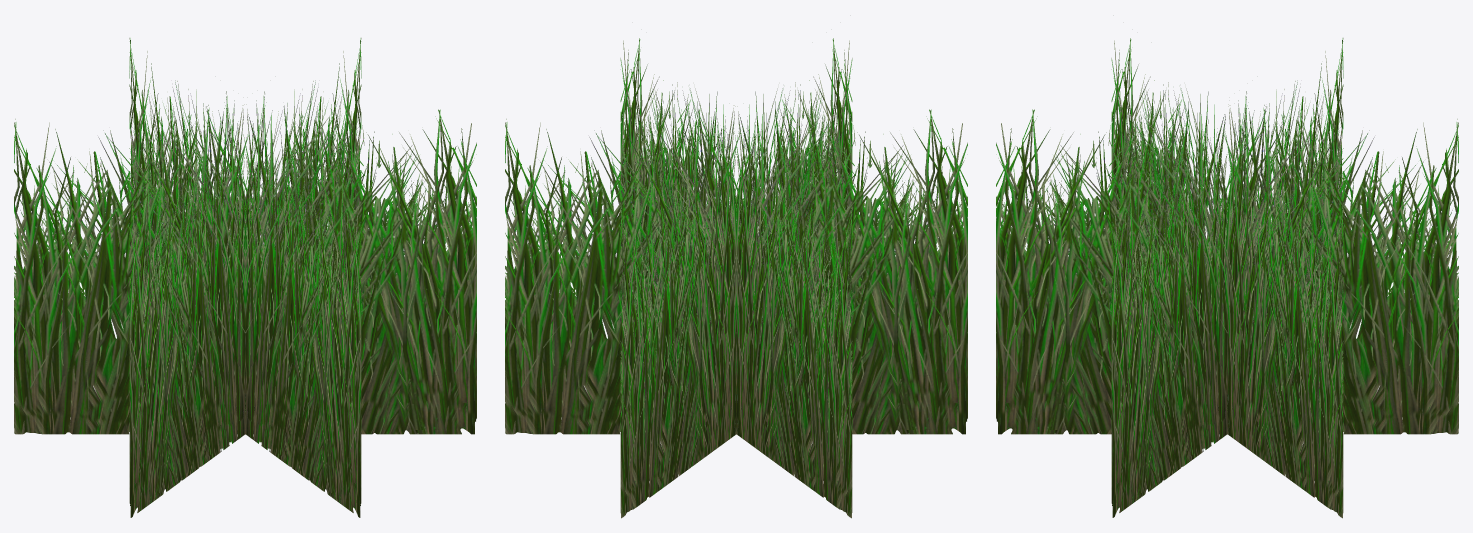
The model's file is grass.obj.
The picture shows the model from 3 angles, left to right: view 1: azimuth 30°, elevation 25°; view 2: azimuth 150°, elevation 25°; view 3: azimuth 270°, elevation 25°; orthographic projection.
Visible parts, largest first — view 1: pPlane3, pPlane6, pPlane5, pPlane4, pPlane1, pPlane2; view 2: pPlane5, pPlane2, pPlane6, pPlane1, pPlane3, pPlane4; view 3: pPlane4, pPlane1, pPlane3, pPlane2, pPlane5, pPlane6.
Boxes of the visible parts, box(x1,y1,x2,y2) form: pPlane3: box(245, 105, 476, 434); pPlane6: box(14, 105, 245, 434); pPlane5: box(129, 117, 245, 517); pPlane4: box(245, 117, 361, 517); pPlane1: box(129, 38, 245, 263); pPlane2: box(245, 38, 361, 262); pPlane5: box(736, 105, 967, 434); pPlane2: box(505, 105, 736, 434); pPlane6: box(736, 106, 852, 518); pPlane1: box(620, 106, 736, 518); pPlane3: box(620, 38, 736, 284); pPlane4: box(736, 38, 852, 254); pPlane4: box(996, 105, 1227, 434); pPlane1: box(1227, 105, 1458, 434); pPlane3: box(1111, 117, 1227, 517); pPlane2: box(1227, 106, 1343, 518); pPlane5: box(1111, 38, 1227, 433); pPlane6: box(1227, 38, 1343, 284).
Size of the model in its own units: 173 by 160 by 200.
Materials: 1 (1 with a texture image).
